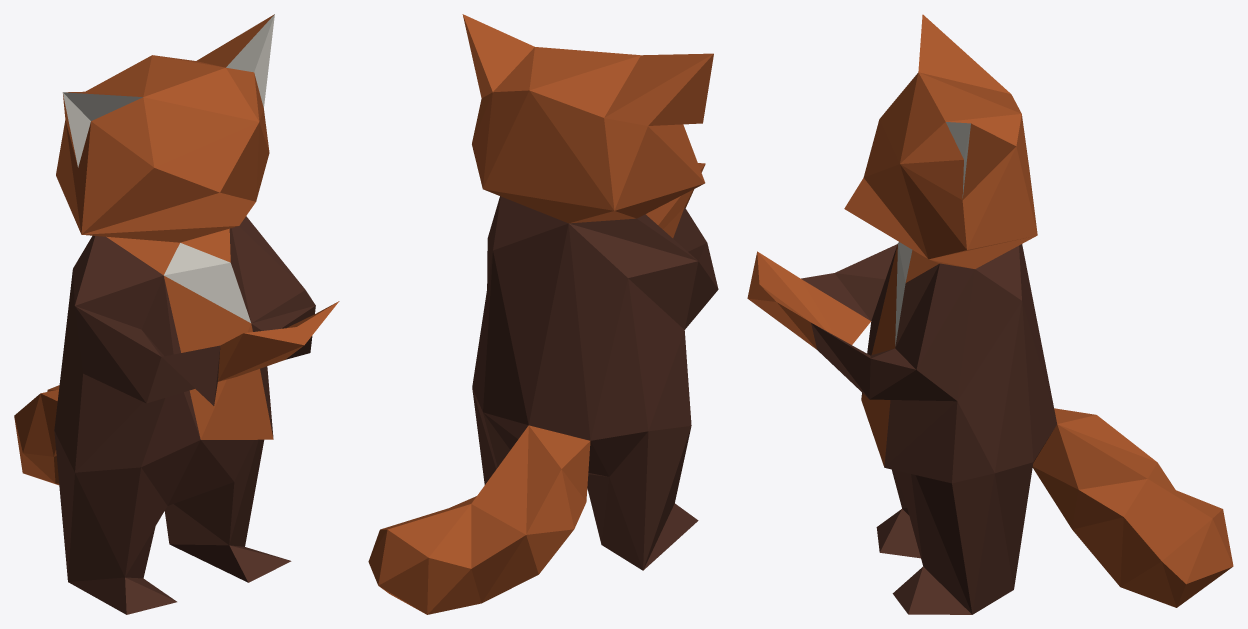
The picture shows the model from 3 angles, left to right: view 1: azimuth 30°, elevation 25°; view 2: azimuth 150°, elevation 25°; view 3: azimuth 270°, elevation 25°; orthographic projection. The views are drawn at different scales.
Parts seen in each view (by area): view 1: lion-200; view 2: lion-200; view 3: lion-200.
Part boxes in pixels (x1=…): lion-200: x1=14, y1=14, x2=339, y2=614; lion-200: x1=368, y1=14, x2=718, y2=614; lion-200: x1=747, y1=14, x2=1233, y2=614.
Bounding box in the file's own units: 0.4782 × 1 × 0.8747.
